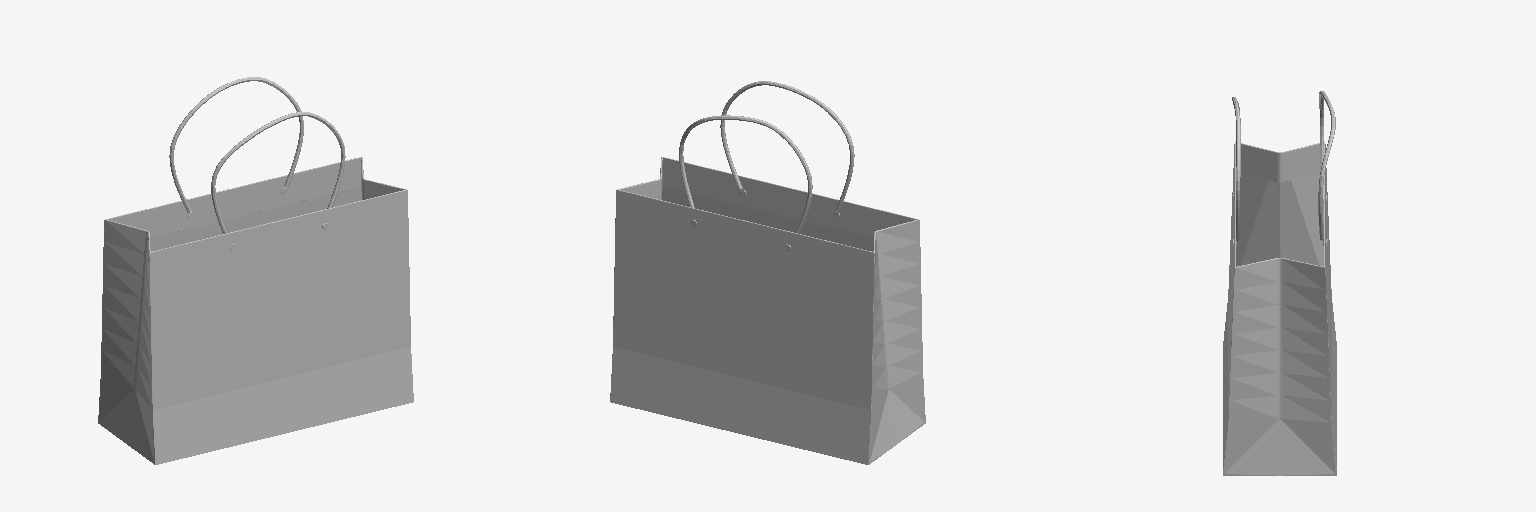
The model's file is shoppin-bag-005.obj.
The picture shows the model from 3 angles: view 1: azimuth 30°, elevation 25°; view 2: azimuth 150°, elevation 25°; view 3: azimuth 270°, elevation 25°; orthographic projection.
Parts seen in each view (by area): view 1: bag, handle; view 2: bag, handle; view 3: bag, handle.
Boxes of the visible parts, x1=… form: bag: x1=98, y1=157, x2=413, y2=464; handle: x1=169, y1=77, x2=345, y2=250; bag: x1=610, y1=157, x2=925, y2=464; handle: x1=679, y1=81, x2=854, y2=250; bag: x1=1223, y1=142, x2=1336, y2=475; handle: x1=1232, y1=91, x2=1335, y2=246.
Bounding box in the file's own units: 0.26 × 0.3013 × 0.1.